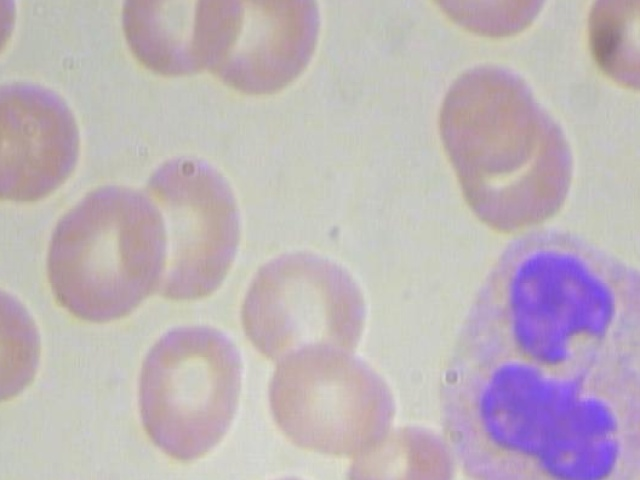RBC: (36, 180, 169, 332), (122, 151, 255, 303), (234, 240, 373, 375), (259, 330, 398, 465), (126, 317, 247, 466), (189, 0, 328, 101), (430, 55, 541, 174), (116, 0, 247, 92), (338, 420, 461, 480), (0, 272, 45, 413), (582, 0, 640, 98), (0, 91, 45, 209), (35, 471, 137, 480)
WBC: (399, 214, 640, 480)
